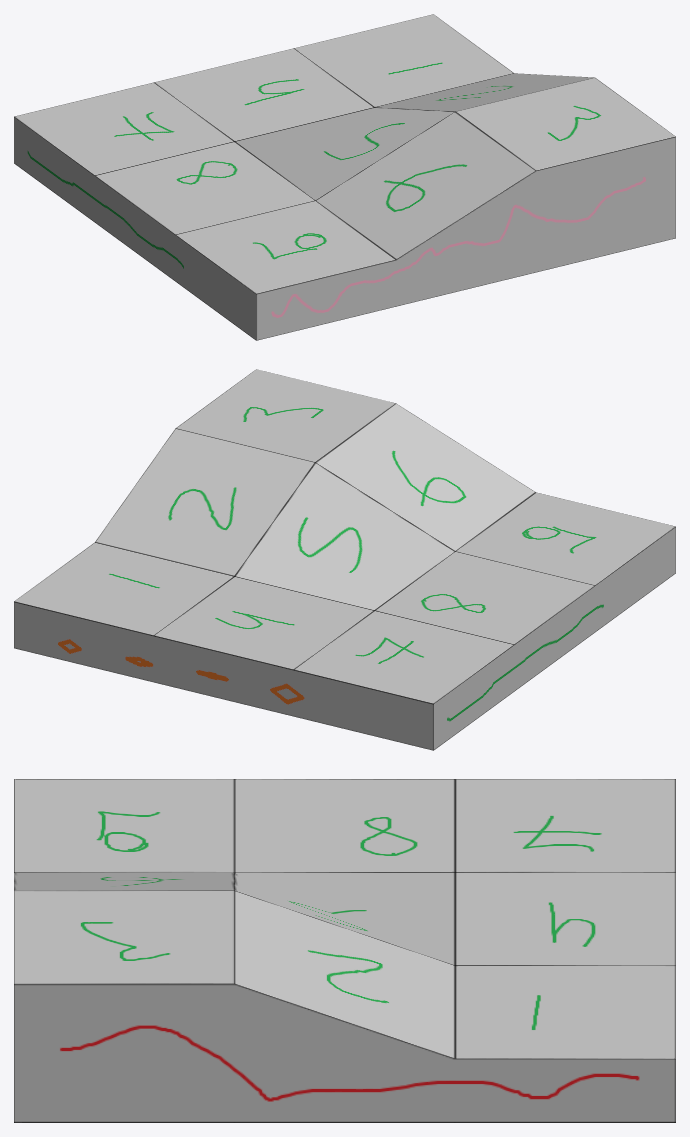
The model's file is raised_ground.glb.
3 renders of one model, top to bottom at view 1: azimuth 30°, elevation 25°; view 2: azimuth 150°, elevation 25°; view 3: azimuth 270°, elevation 25°, orthographic. The views are drawn at different scales.
Parts seen in each view (by area): view 1: Cube; view 2: Cube; view 3: Cube.
Part boxes in pixels (x1=…): Cube: x1=14, y1=14, x2=675, y2=340; Cube: x1=14, y1=369, x2=675, y2=750; Cube: x1=14, y1=779, x2=675, y2=1122.
Size of the model in its own units: 4 by 0.9265 by 4.
1 material, 1 textured.
